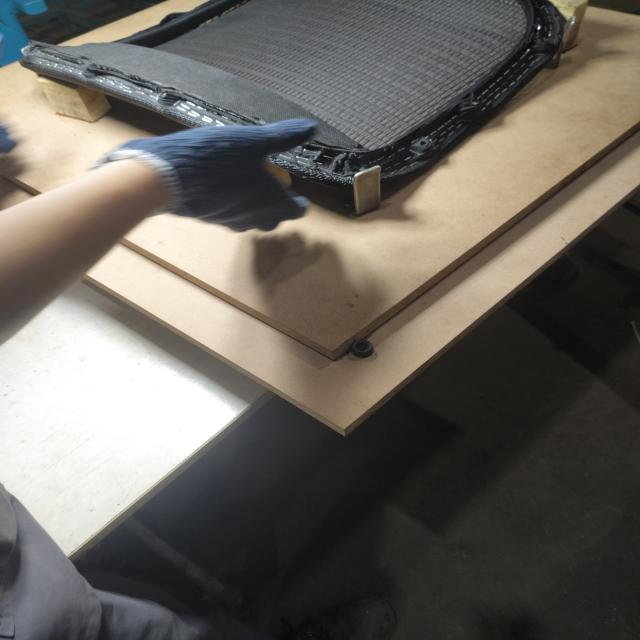Gloves-Detection: (117, 120, 347, 236)
